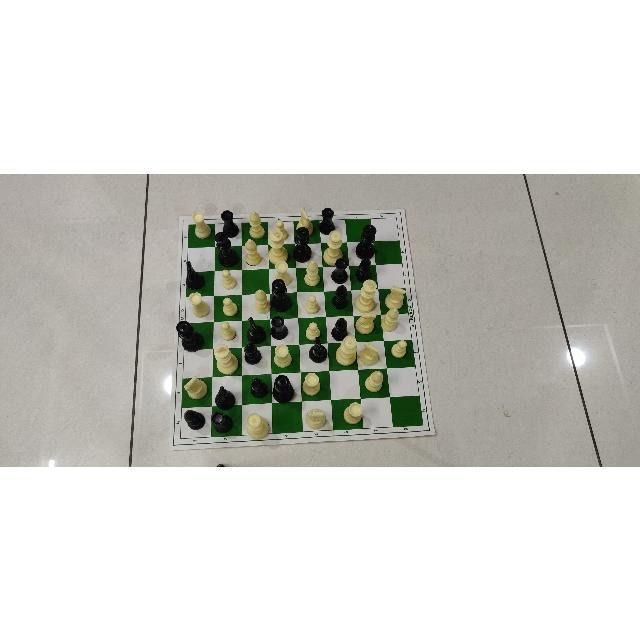black-bishop: (243, 347, 271, 373), (244, 376, 271, 402), (325, 291, 353, 315), (328, 317, 354, 340), (352, 266, 377, 288), (241, 341, 263, 364), (248, 374, 270, 397), (331, 284, 349, 310), (330, 316, 350, 339), (183, 408, 204, 429), (356, 257, 372, 281)
black-king: (214, 231, 238, 267), (356, 223, 376, 259), (294, 225, 312, 260), (296, 245, 324, 266), (349, 243, 377, 262), (216, 248, 242, 268)
black-knight: (214, 376, 242, 403), (299, 345, 328, 369), (243, 321, 271, 345), (244, 316, 266, 344), (187, 259, 205, 289), (307, 336, 327, 361), (188, 271, 209, 288)
black-queen: (176, 320, 204, 351), (273, 374, 301, 400), (271, 279, 293, 311), (185, 323, 213, 348), (270, 293, 297, 316)
black-rook: (212, 406, 242, 433), (270, 319, 299, 343), (323, 267, 350, 290), (321, 219, 347, 240), (219, 209, 239, 236), (270, 312, 288, 340), (317, 207, 336, 233), (210, 412, 233, 432), (216, 225, 243, 242), (331, 257, 348, 283)
white-bishop: (359, 370, 389, 396), (382, 314, 412, 338), (242, 296, 269, 319), (243, 245, 269, 266), (298, 270, 323, 290), (245, 221, 269, 240)
white-king: (214, 350, 242, 374), (352, 290, 380, 313), (269, 243, 292, 264)
white-knight: (302, 401, 332, 429), (183, 378, 211, 404), (354, 316, 383, 340), (358, 342, 384, 366), (380, 290, 408, 312), (295, 221, 321, 243)
white-pawn: (385, 340, 415, 365), (214, 321, 242, 346), (298, 292, 326, 316), (215, 270, 241, 294), (300, 319, 326, 343), (215, 296, 241, 317), (273, 224, 293, 240)
white-queen: (244, 406, 272, 432), (329, 343, 356, 368), (323, 241, 349, 264)
white-rook: (332, 400, 363, 427), (301, 372, 331, 399), (272, 347, 300, 371), (186, 296, 211, 321), (269, 268, 296, 291), (188, 226, 214, 244), (342, 402, 363, 423)
